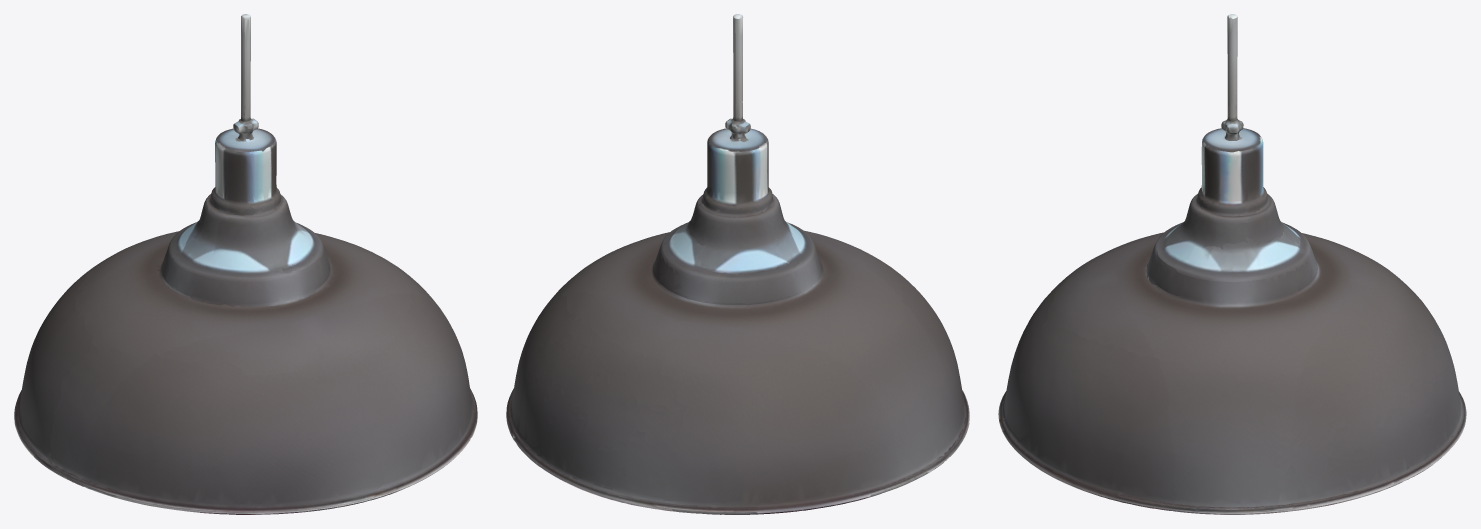
Rendered from ceilinglamp.fbx.
3 renders of one model, left to right at view 1: azimuth 30°, elevation 25°; view 2: azimuth 150°, elevation 25°; view 3: azimuth 270°, elevation 25°, orthographic.
Parts seen in each view (by area): view 1: tmpkl1pq3z8.ply; view 2: tmpkl1pq3z8.ply; view 3: tmpkl1pq3z8.ply.
Part boxes in pixels (left/top/right/bottom): tmpkl1pq3z8.ply: left=14, top=14, right=477, bottom=514; tmpkl1pq3z8.ply: left=506, top=14, right=969, bottom=514; tmpkl1pq3z8.ply: left=998, top=14, right=1466, bottom=514.
Size of the model in its own units: 98.71 by 99.55 by 99.08.
Materials: 1 (1 with a texture image).
